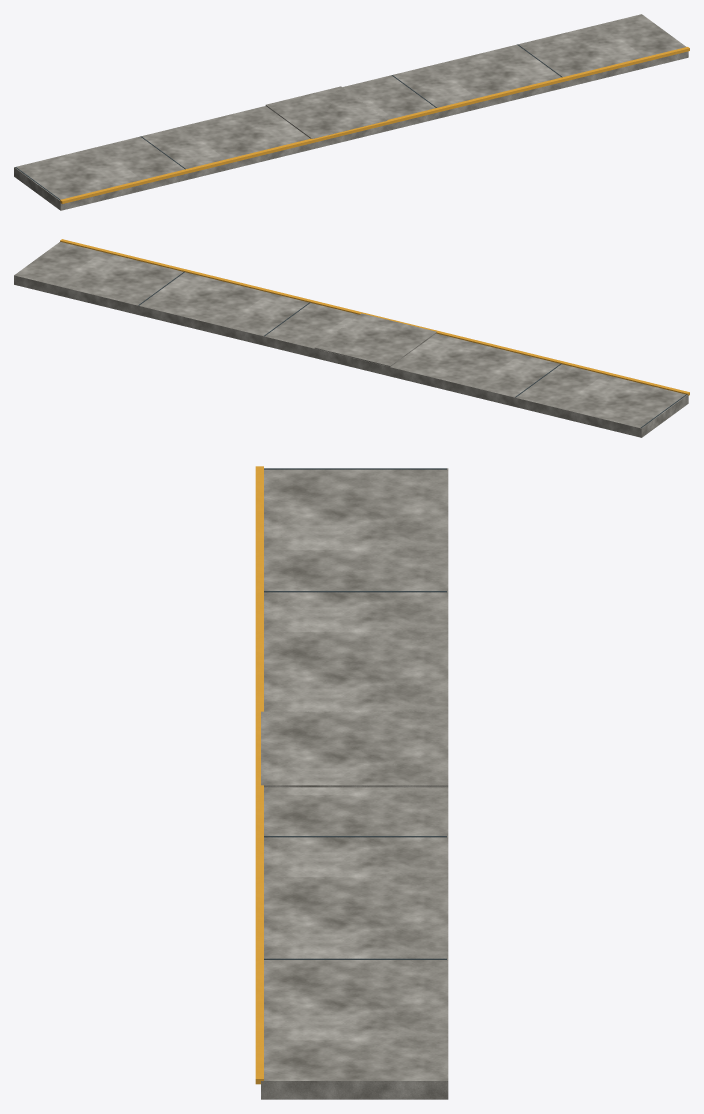
File: CW24_05_Store_Sidewalk.glb
The picture shows the model from 3 angles, top to bottom: view 1: azimuth 30°, elevation 25°; view 2: azimuth 150°, elevation 25°; view 3: azimuth 270°, elevation 25°; orthographic projection. The views are drawn at different scales.
Visible parts, largest first — view 1: Store_Sidewalk__Sidewalk_Concrete_Footpath, Store_Sidewalk__Access_Ramp_Doorstep, Store_Sidewalk__Sidewalk_Front_Edge_Amber, Store_Sidewalk__Sidewalk_ExpansionJoint; view 2: Store_Sidewalk__Sidewalk_Concrete_Footpath, Store_Sidewalk__Access_Ramp_Doorstep, Store_Sidewalk__Sidewalk_Front_Edge_Amber, Store_Sidewalk__Sidewalk_ExpansionJoint; view 3: Store_Sidewalk__Sidewalk_Concrete_Footpath, Store_Sidewalk__Access_Ramp_Doorstep, Store_Sidewalk__Sidewalk_Front_Edge_Amber, Store_Sidewalk__Sidewalk_ExpansionJoint.
Boxes of the visible parts, x1,y1,x2,y2 form: Store_Sidewalk__Sidewalk_Concrete_Footpath: (14, 14, 688, 210); Store_Sidewalk__Access_Ramp_Doorstep: (265, 86, 387, 138); Store_Sidewalk__Sidewalk_Front_Edge_Amber: (60, 47, 689, 203); Store_Sidewalk__Sidewalk_ExpansionJoint: (15, 44, 562, 199); Store_Sidewalk__Sidewalk_Concrete_Footpath: (14, 241, 688, 437); Store_Sidewalk__Access_Ramp_Doorstep: (314, 313, 436, 366); Store_Sidewalk__Sidewalk_Front_Edge_Amber: (60, 239, 689, 395); Store_Sidewalk__Sidewalk_ExpansionJoint: (138, 271, 686, 427); Store_Sidewalk__Sidewalk_Concrete_Footpath: (261, 468, 448, 1099); Store_Sidewalk__Access_Ramp_Doorstep: (261, 711, 448, 787); Store_Sidewalk__Sidewalk_Front_Edge_Amber: (255, 466, 263, 1084); Store_Sidewalk__Sidewalk_ExpansionJoint: (264, 468, 446, 959).
Size of the model in its own units: 12 by 0.191 by 1.59.
3 materials, 3 textured.
